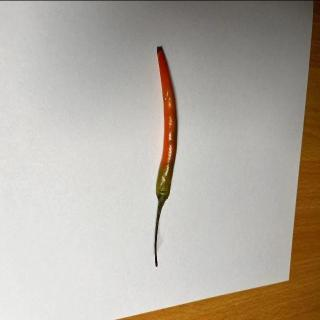Cabai Merah: (155, 46, 179, 268)
